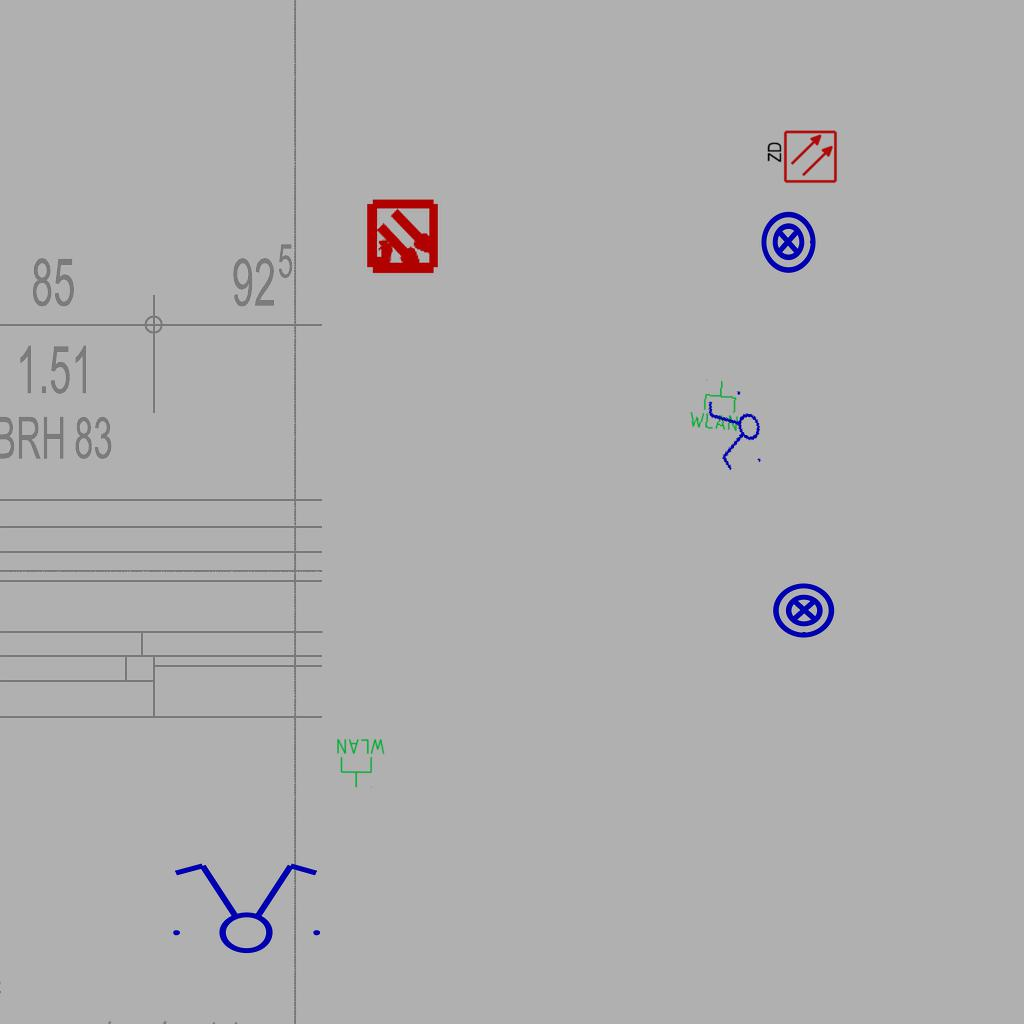OT_Multisensormelder_(Kombination_RMO_WMD): (346, 182, 459, 295)
Serienschalter: (161, 859, 329, 955), (701, 383, 773, 479)
Taster_beleuchtet: (755, 209, 821, 275), (771, 577, 837, 643)
WLAN: (686, 376, 744, 434), (335, 737, 387, 789)
ZD_Melder_in_Zwischendecke_mit_Revisionsoeffnung_mind_40_x_40_cm: (764, 129, 838, 186)
